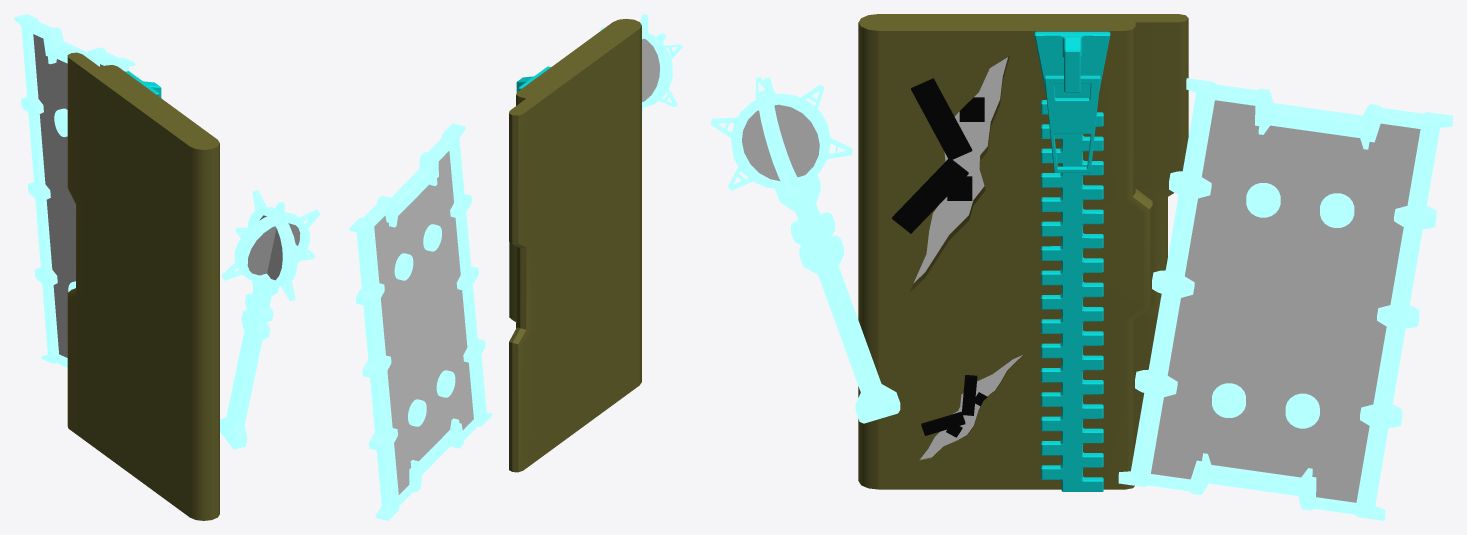
Rendered from Lvl 1 Zip.fbx.
The picture shows the model from 3 angles, left to right: view 1: azimuth 30°, elevation 25°; view 2: azimuth 150°, elevation 25°; view 3: azimuth 270°, elevation 25°; orthographic projection. The views are drawn at different scales.
Visible parts, largest first — view 1: Zip_Troop_; view 2: Zip_Troop_; view 3: Zip_Troop_.
Boxes of the visible parts, x1,y1,x2,y2 form: Zip_Troop_: [14, 14, 320, 520]; Zip_Troop_: [349, 14, 682, 520]; Zip_Troop_: [711, 14, 1452, 520].
Bounding box in the file's own units: 0.4761 × 1.87 × 2.7.
